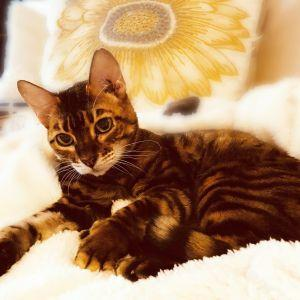bengal: (13, 41, 144, 179)
